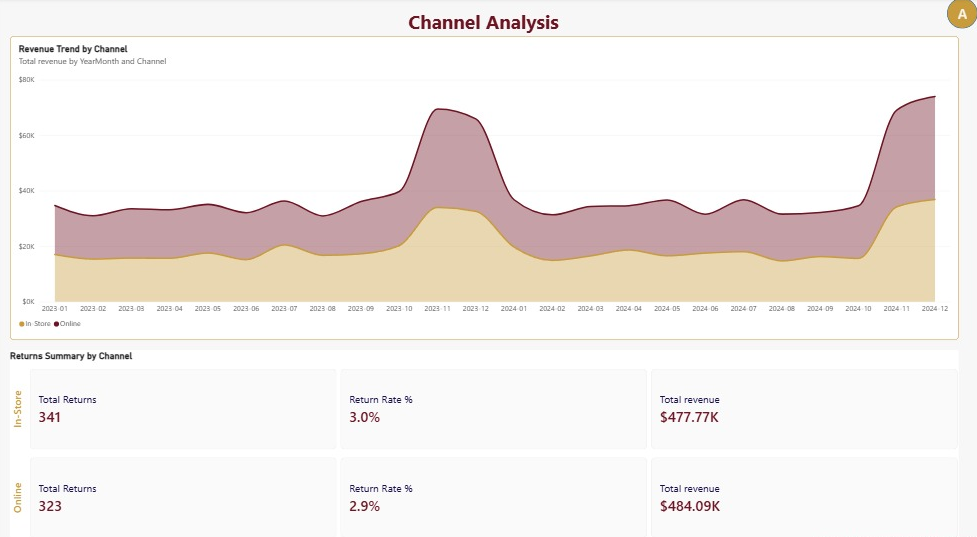

Layout of this report page (visuals, bound fields, positions):
{"tool":"powerbi","page":{"name":"Channel Analysis","canvas":[1920,1080],"ordinal":2},"visuals":[{"type":"stackedAreaChart","title":"Revenue Trend by Channel","fields":{"Category":["DateTable.YearMonth"],"Series":["Fact_sales.Channel"],"Y":["_Measures.Total revenue"]},"box":[19.6,74.6,1863.5,596.9],"z":3000},{"type":"cardVisual","title":"Returns Summary by Channel","fields":{"Data":["_Measures.Total Returns","_Measures.Return Rate %","_Measures.Total revenue"],"Rows":["Fact_sales.Channel"]},"box":[19.6,691.2,1863.5,369.2],"z":4000},{"type":"shape","box":[1859.8,0,60,60],"z":5000},{"type":"textbox","title":"Designed & developed by Mirza Afzal Baig | Afzalytics","box":[1413.4,1062.3,506.6,17.7],"z":6000},{"type":"textbox","title":"Category Performance","box":[39.3,0,1820.3,74.6],"z":7000}]}

Visuals, with their boxes in screenshot pixels (x1, y1, x2, y2), scaled from the page's 1920x1080 canvas onto the 977x537 screenshot:
"Revenue Trend by Channel" stackedAreaChart: pyautogui.locateOnScreen(10, 37, 958, 334)
"Returns Summary by Channel" cardVisual: pyautogui.locateOnScreen(10, 344, 958, 527)
shape: pyautogui.locateOnScreen(946, 0, 976, 30)
"Designed & developed by Mirza Afzal Baig | Afzalytics" textbox: pyautogui.locateOnScreen(719, 528, 976, 536)
"Category Performance" textbox: pyautogui.locateOnScreen(20, 0, 946, 37)
